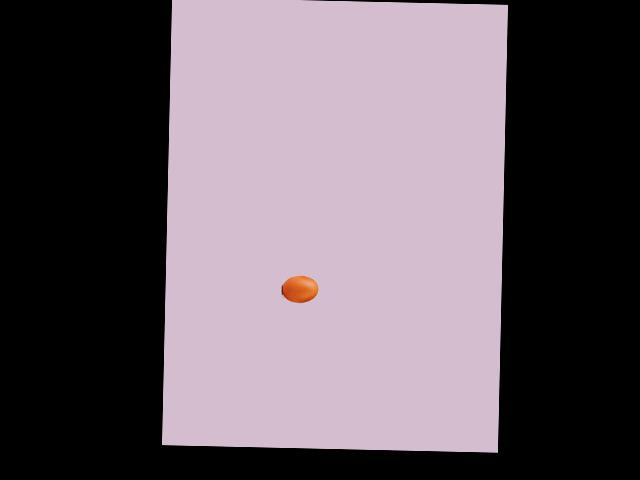egg: (281, 276, 318, 303)
